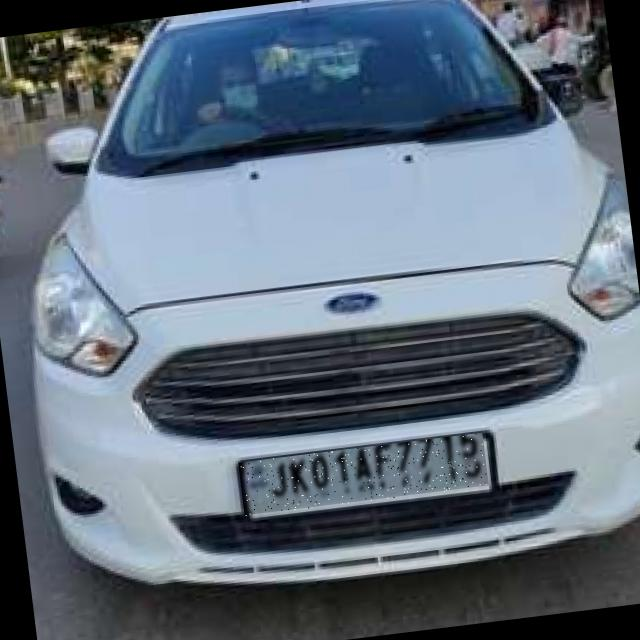Plate: (239, 434, 490, 518)
